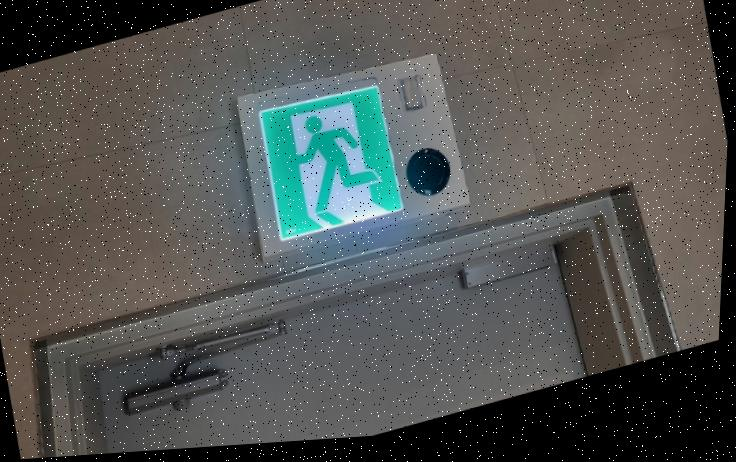emergency_exit: (235, 52, 471, 263), (257, 80, 405, 242)
